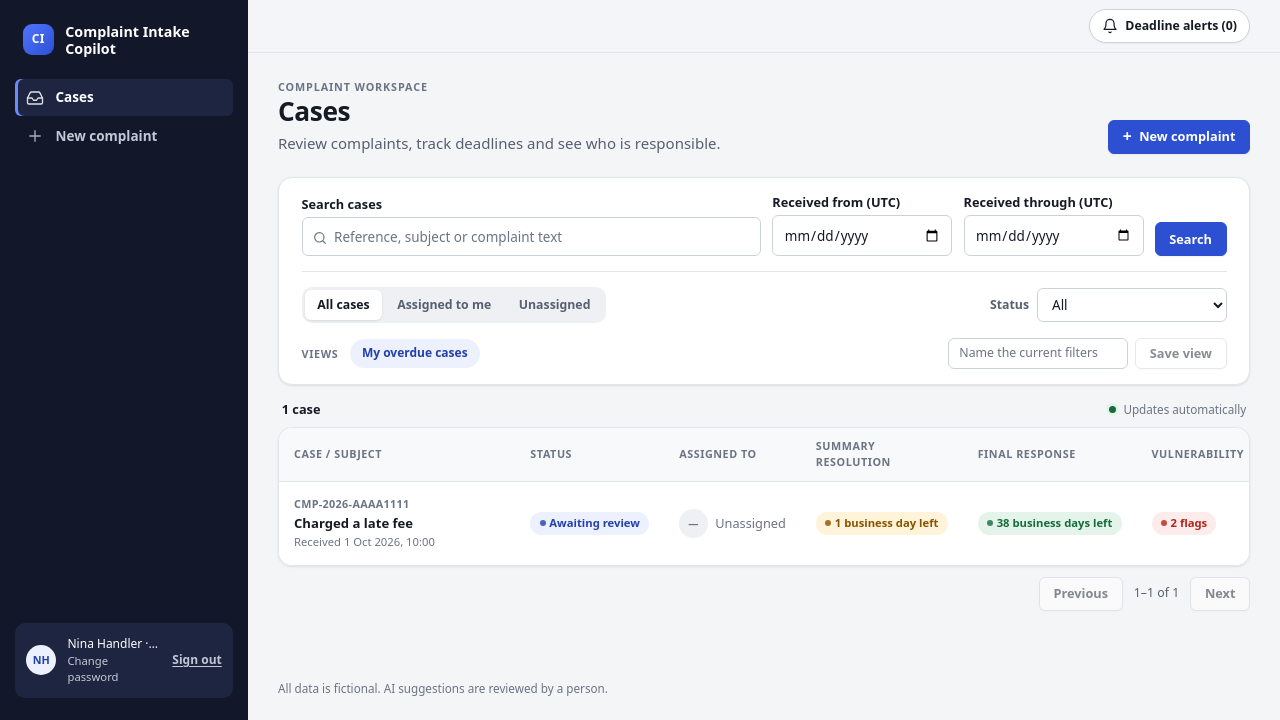
Test: signing in › signs out everywhere when the API says the token is no longer valid
Expected: the heading "Cases" is shown, [278, 93, 350, 129]
What coordinates should you click on to do the following:
click the link "CMP-2026-AAAA1111"
I would click on:
 (352, 503)
Its box is [294, 496, 410, 511].
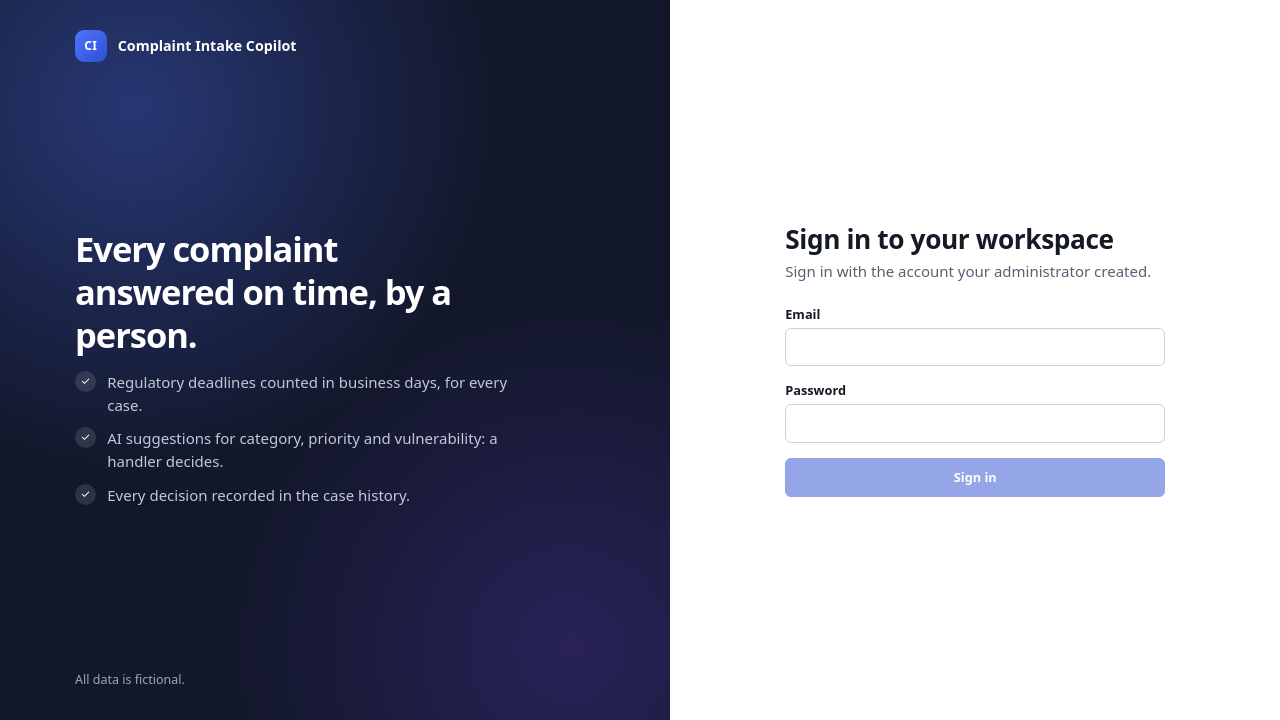
Now the password field labelled "Password" is shown, box [785, 404, 1165, 443]
